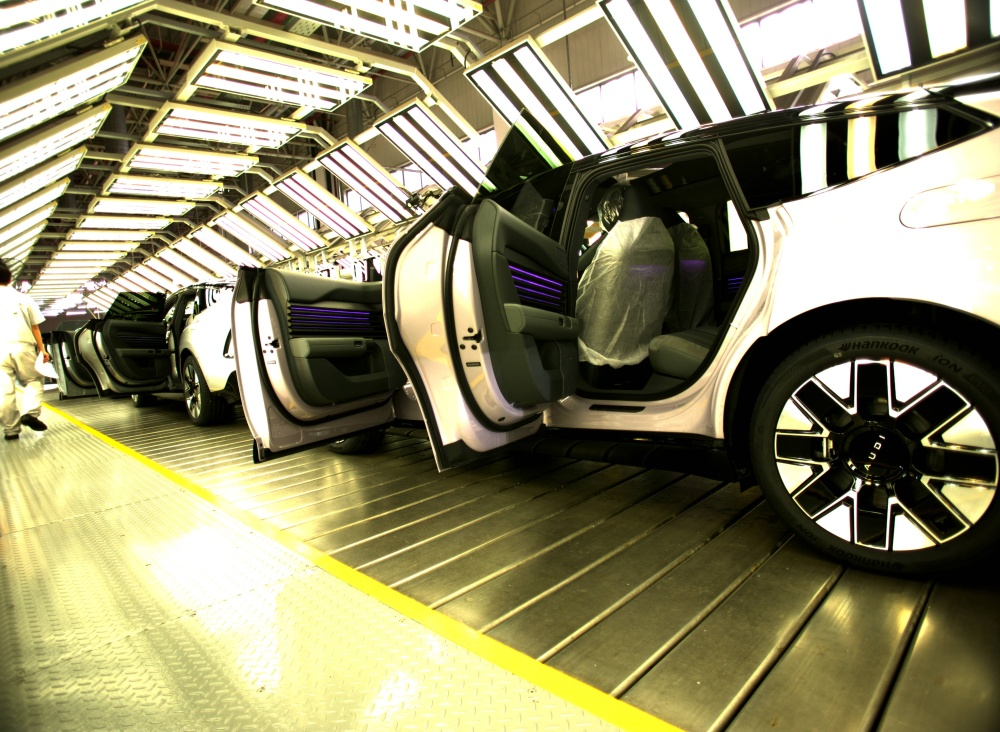armrest_color: (502, 301, 582, 341)
panel_color: (506, 257, 569, 314), (283, 298, 371, 334), (290, 335, 376, 357)
